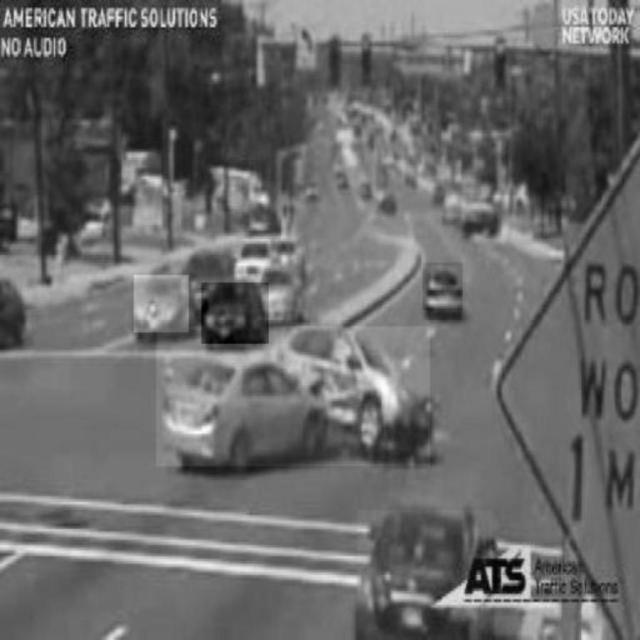accident: (157, 326, 430, 466)
vehicle: (357, 510, 493, 640), (201, 283, 268, 344), (134, 274, 189, 332), (423, 263, 463, 310)
